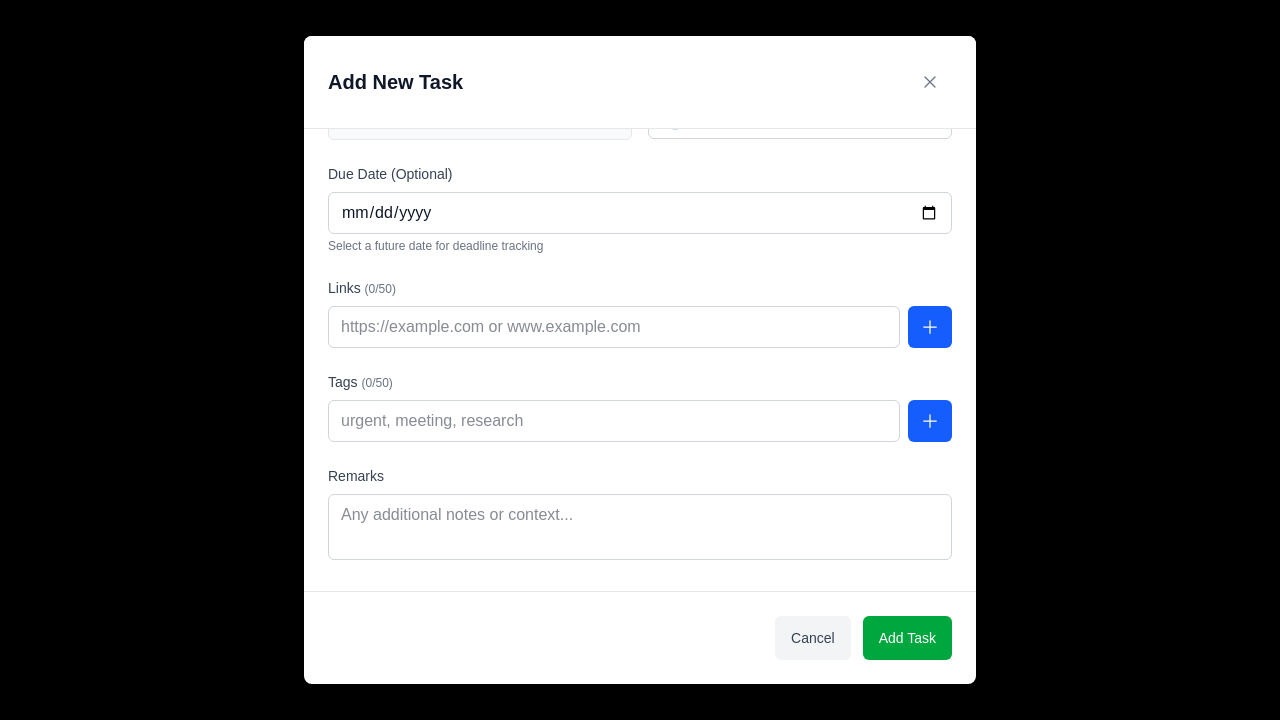
Test case: AddTaskModal - Form Validation › Tag Management › adds tag
(page scrolled)
Step 1. Type "important" into the field with placeholder "urgent, meeting, research" → (614,421), box left=328, top=400, right=900, bottom=442
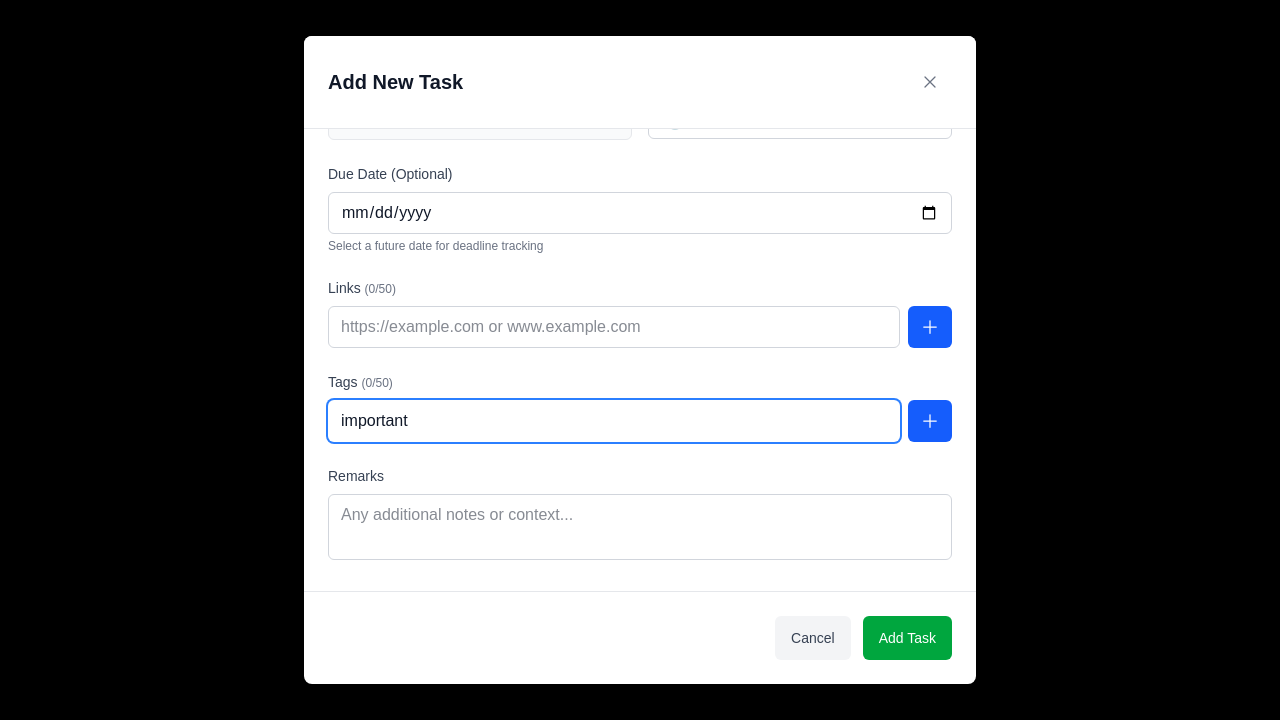
Step 2. Click the button named "Add tag to task" → (930,421), box left=908, top=400, right=952, bottom=442
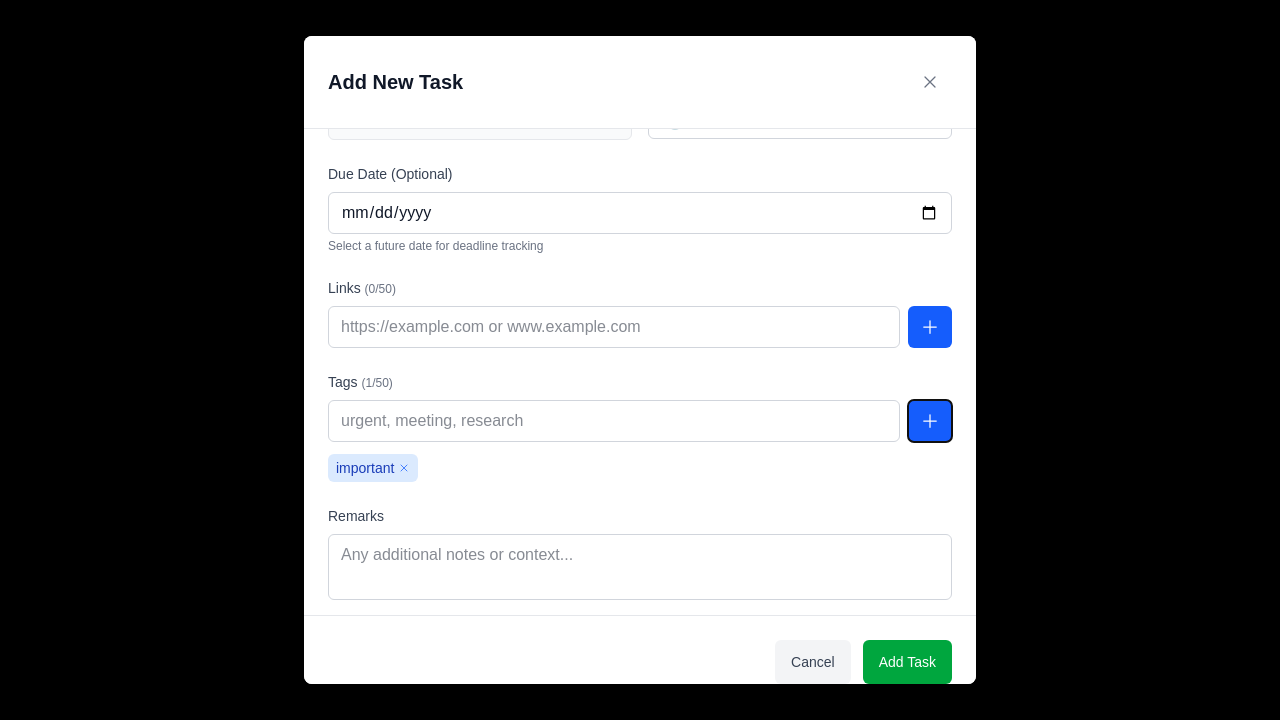
Result: the text "important" is shown at left=328, top=454, right=418, bottom=482
